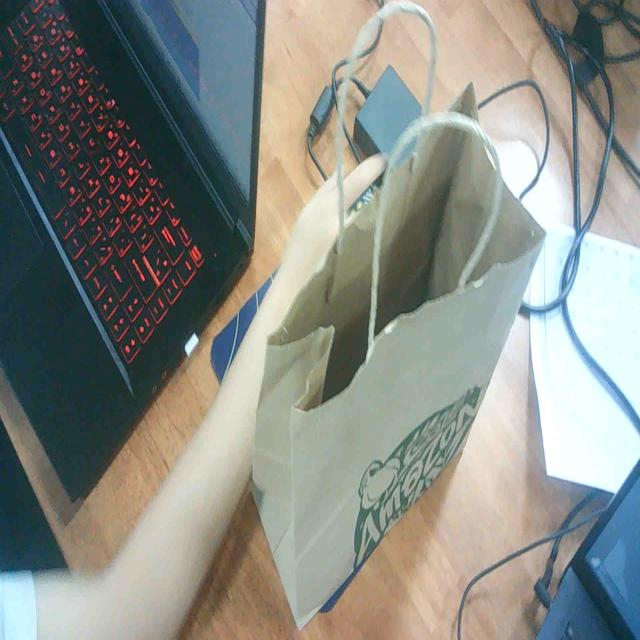bag: (238, 116, 537, 604)
